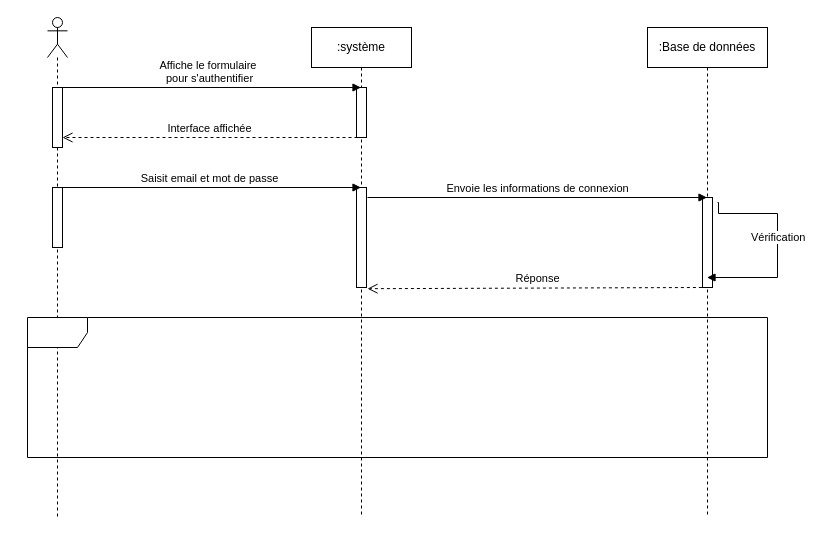
The diagram is 822 pixels wide and 535 high, and some of its shapes have lost their labels. Each missing label, with the centre of its shape:
frame: (397,387)
Utilisateur: (57,267)
